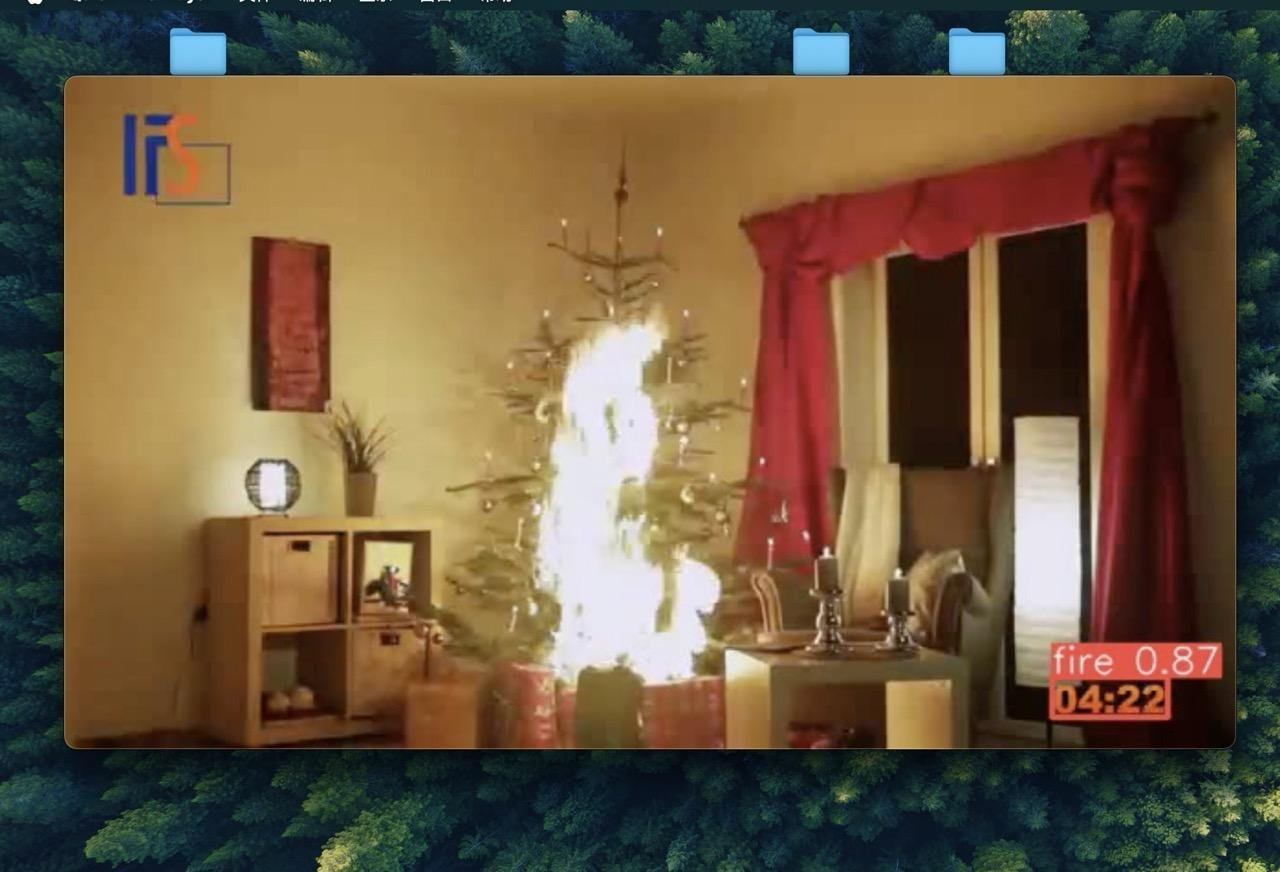fire: (502, 248, 770, 699)
